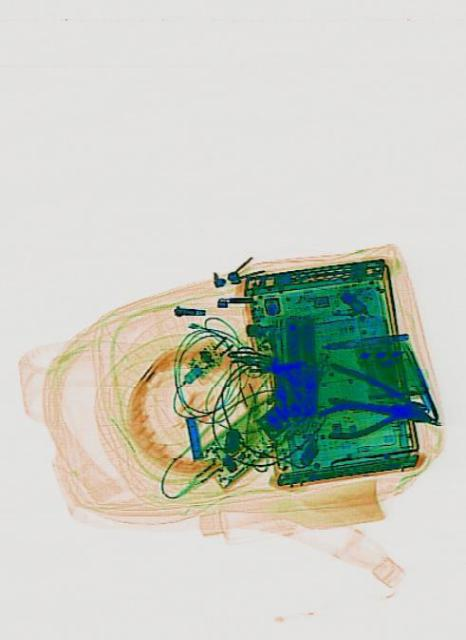Pliers: (322, 360, 427, 448)
